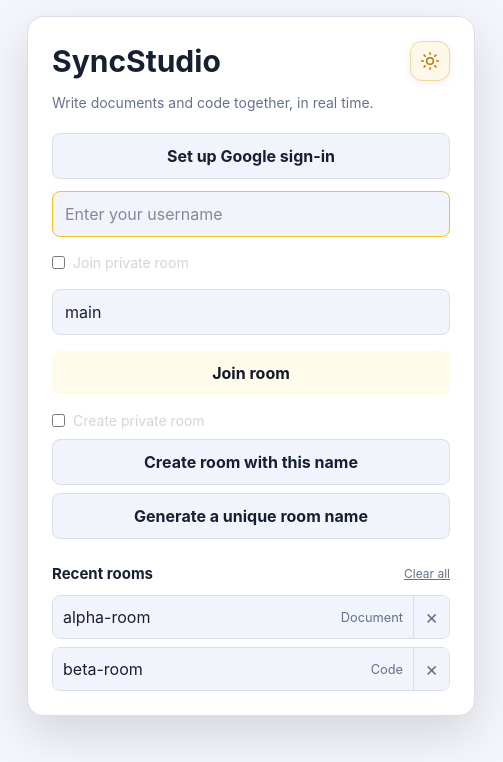
Scenario: room entry screen › removes one recent room and clears the rest
Expected: the element "Recent rooms" is shown, x1=52 y1=563 x2=450 y2=691
Click the button named "Remove alpha-room from recent rooms" at (431, 617), box x1=413 y1=596 x2=449 y2=638
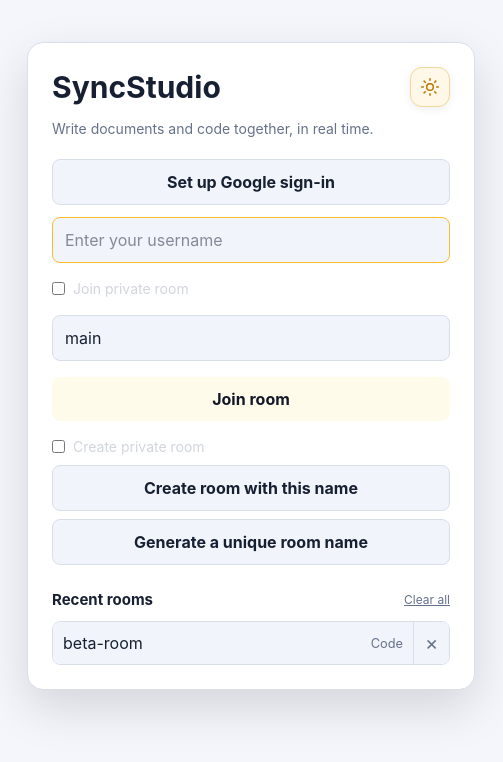
Expected: the button "alpha-room" is gone
Click the button "Clear all" at (427, 600), box x1=404 y1=591 x2=450 y2=609
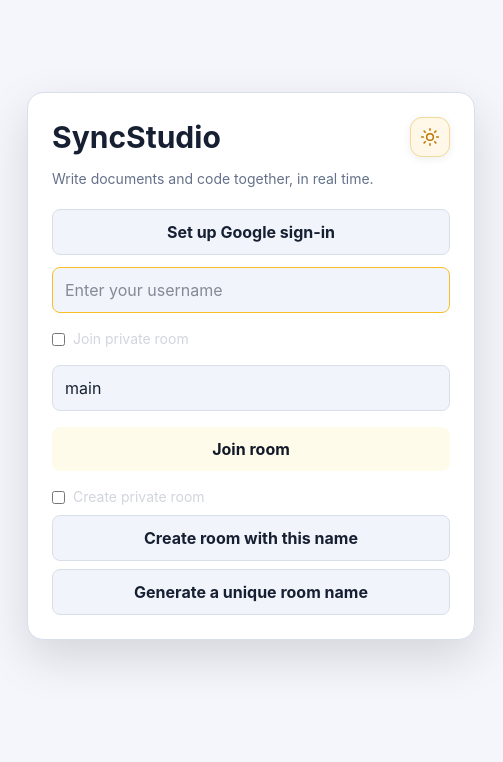
Expected: the heading "Recent rooms" is gone
